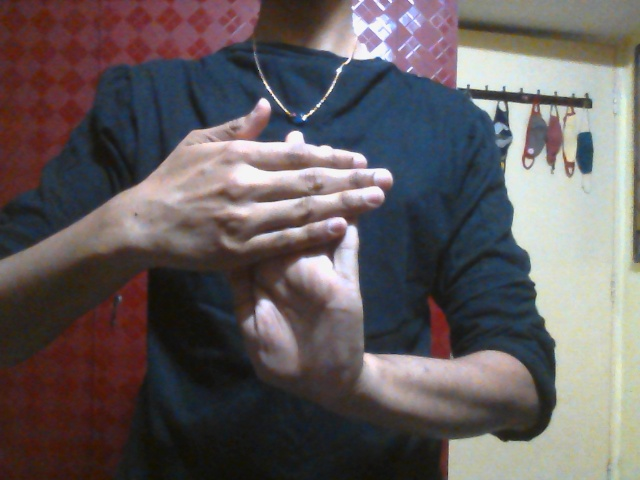H: (154, 96, 391, 399)
